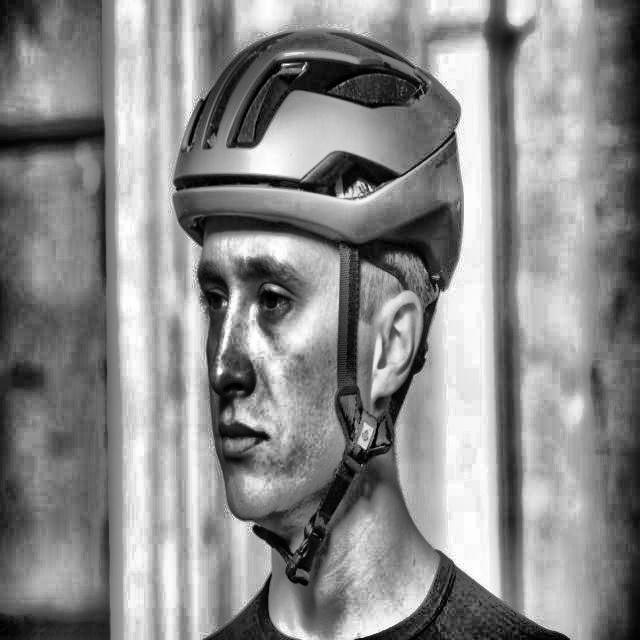Helmet: (167, 22, 470, 594)
